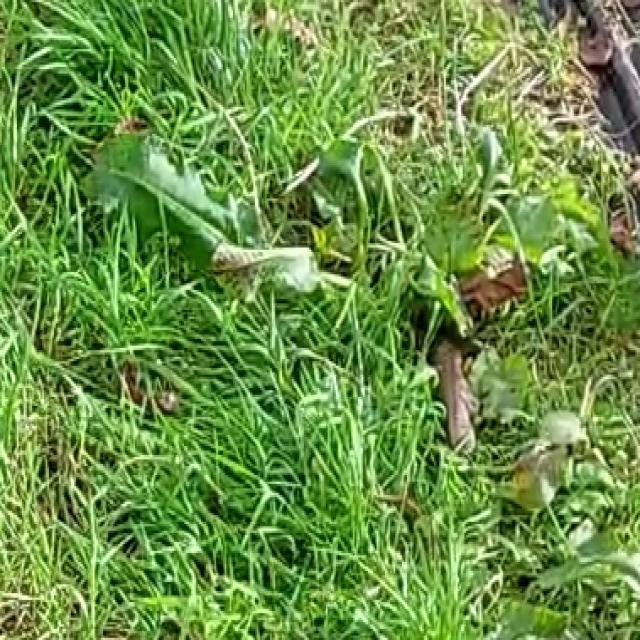organic waste: (94, 78, 490, 326)
